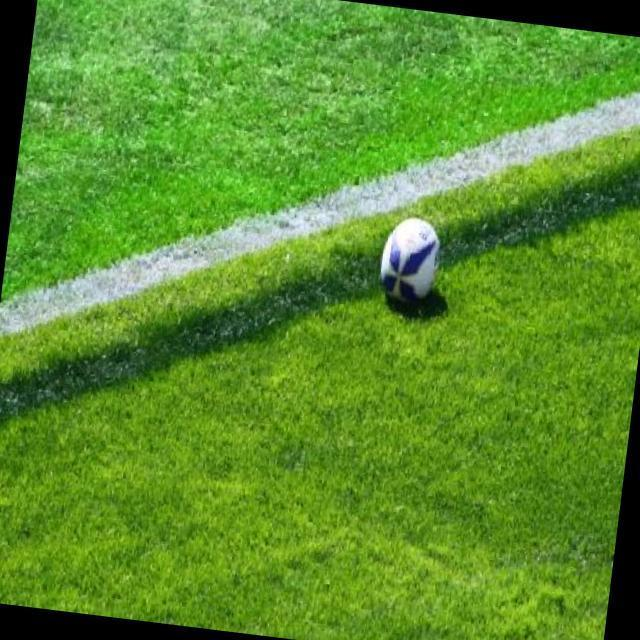-: (373, 199, 450, 314)
